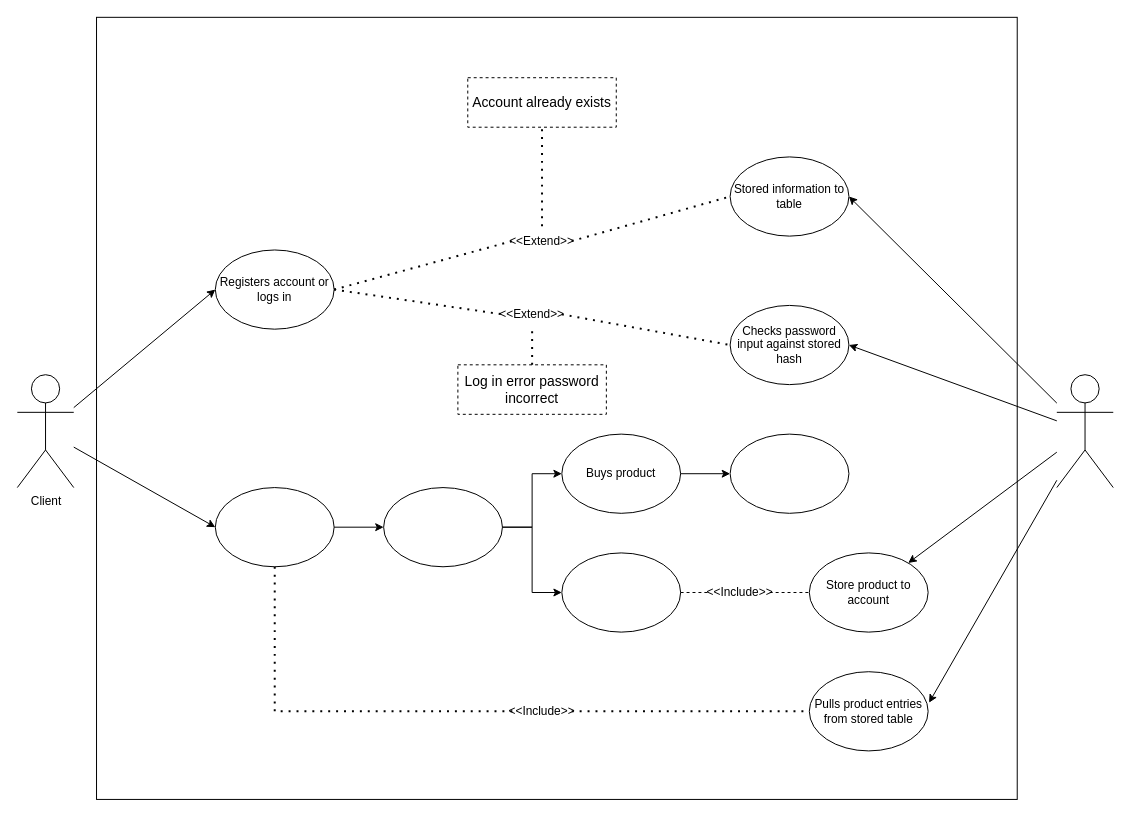
Some shapes in this 1131 by 817 pixel diagram are drawn without their labels. The box of each missing label's shape, as (x1, y1, x2, y2) in pixels:
Receives confirmation: (729, 433, 849, 513)
Saves product: (561, 552, 681, 632)
Server: (1056, 374, 1113, 488)
Views product list: (214, 487, 334, 567)
Views single product in detailed view: (383, 487, 502, 567)
